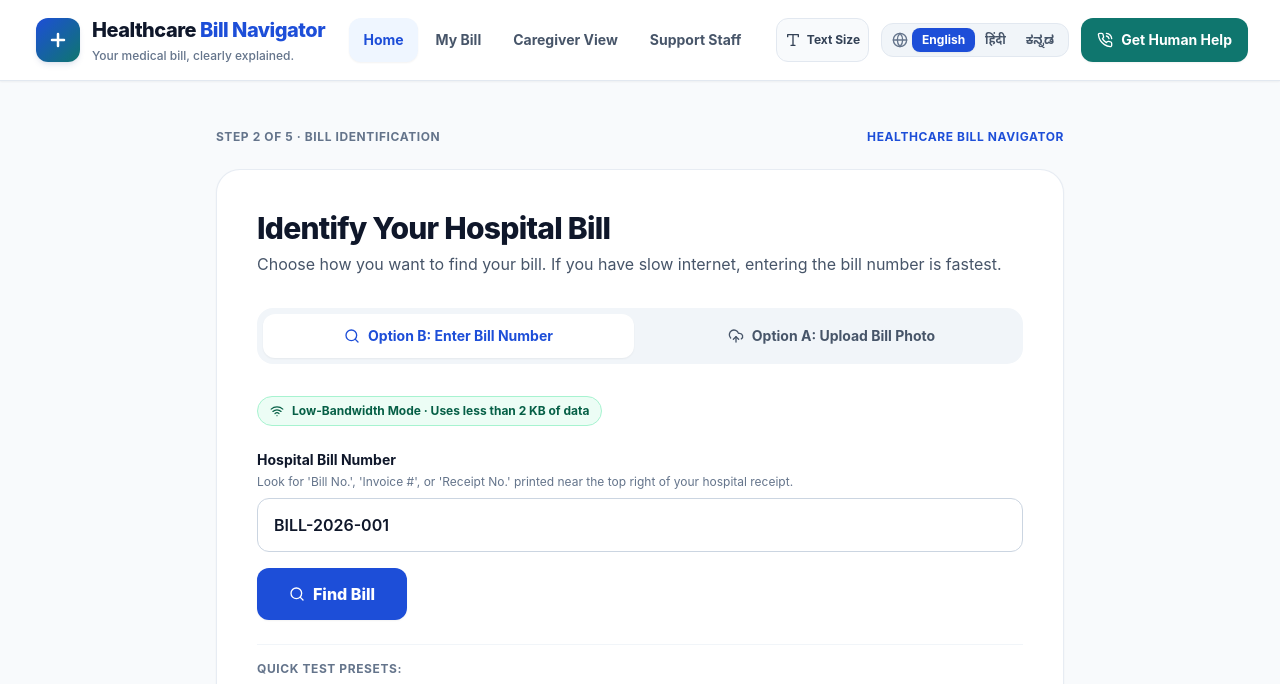
Scenario: IdentifyPage › validates empty or invalid bill number
Replace the text in the field labelled "Hospital Bill Number" with "ab" at x=640, y=525, box left=257, top=498, right=1023, bottom=552
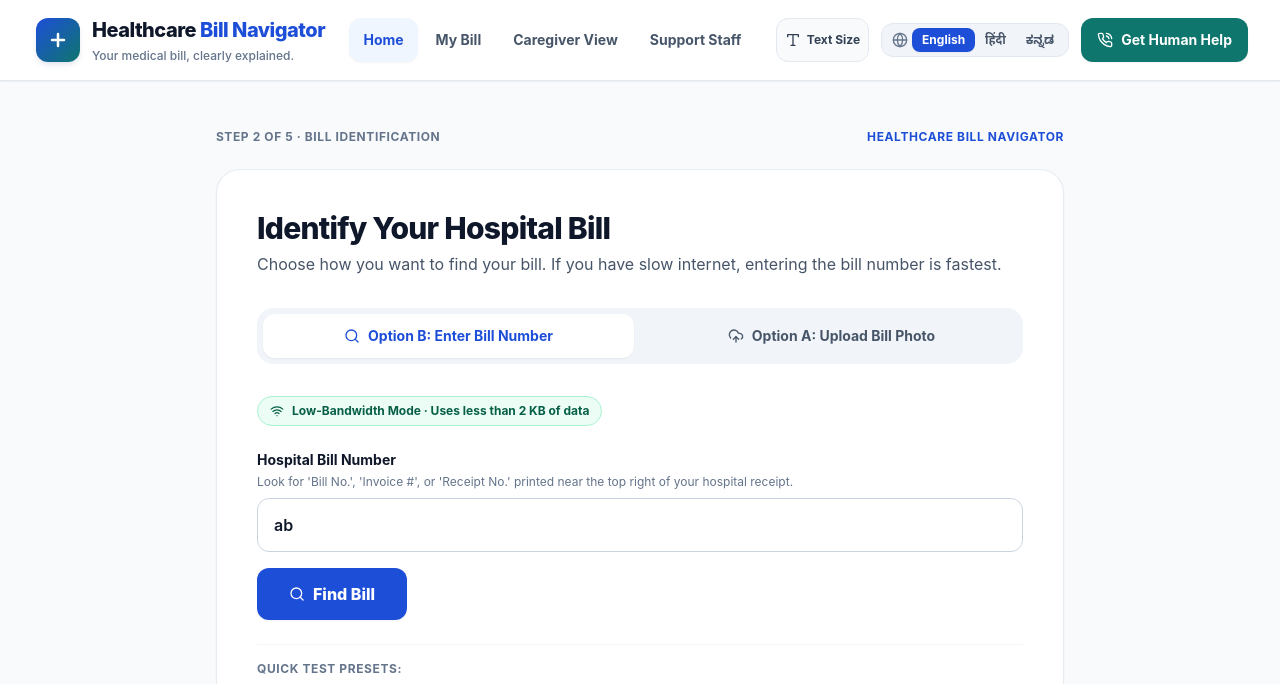
Click the button "Find Bill" at x=332, y=594, box left=257, top=568, right=407, bottom=620
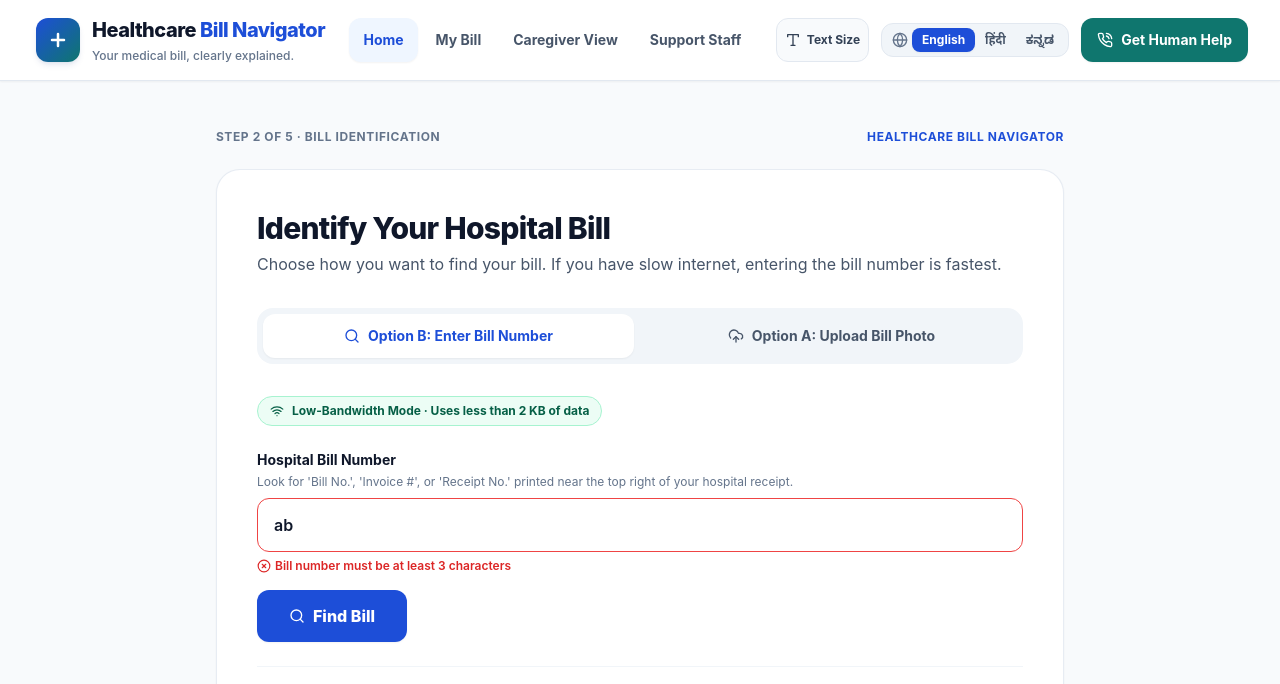
Expected: the text "Bill number must be at least 3 characters" is shown, left=275, top=558, right=511, bottom=574
